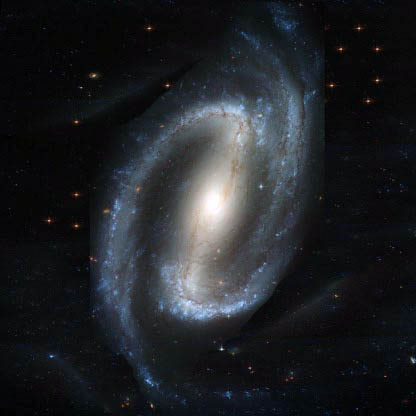NGC 1300: (90, 9, 325, 394)
